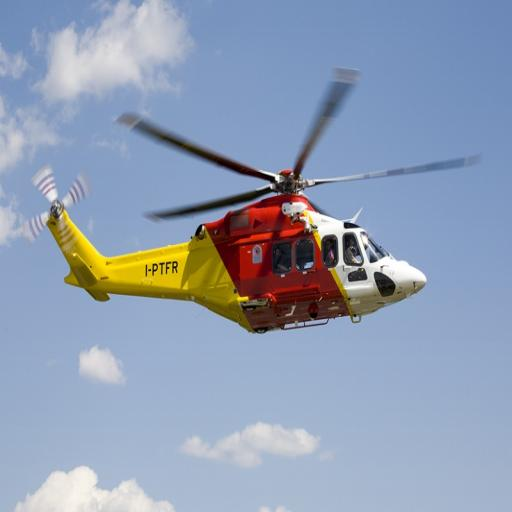helicopter: (20, 45, 490, 387)
